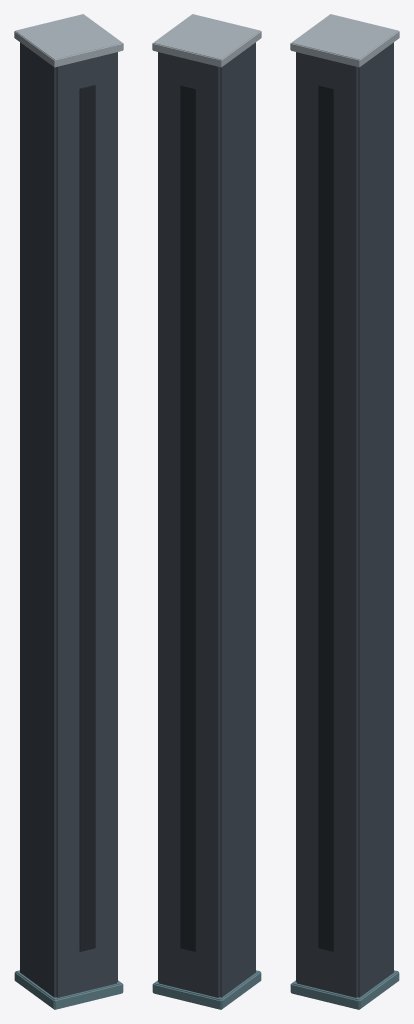
The model's file is SM_StationPost.glb.
3 renders of one model, left to right at view 1: azimuth 30°, elevation 25°; view 2: azimuth 150°, elevation 25°; view 3: azimuth 330°, elevation 25°, orthographic.
Parts seen in each view (by area): view 1: VC_ENVKIT_Post_BoxSection, VC_ENVKIT_Post_RecessChannel, VC_ENVKIT_Post_CapPlate, VC_ENVKIT_Post_BasePlate; view 2: VC_ENVKIT_Post_BoxSection, VC_ENVKIT_Post_RecessChannel.001, VC_ENVKIT_Post_CapPlate, VC_ENVKIT_Post_BasePlate; view 3: VC_ENVKIT_Post_BoxSection, VC_ENVKIT_Post_RecessChannel, VC_ENVKIT_Post_CapPlate, VC_ENVKIT_Post_BasePlate.
Boxes of the visible parts, x1=… form: VC_ENVKIT_Post_BoxSection: x1=20, y1=42, x2=117, y2=997; VC_ENVKIT_Post_RecessChannel: x1=79, y1=85, x2=95, y2=951; VC_ENVKIT_Post_CapPlate: x1=14, y1=14, x2=123, y2=67; VC_ENVKIT_Post_BasePlate: x1=14, y1=970, x2=123, y2=1009; VC_ENVKIT_Post_BoxSection: x1=158, y1=42, x2=255, y2=997; VC_ENVKIT_Post_RecessChannel.001: x1=180, y1=85, x2=196, y2=951; VC_ENVKIT_Post_CapPlate: x1=152, y1=14, x2=261, y2=67; VC_ENVKIT_Post_BasePlate: x1=152, y1=970, x2=261, y2=1009; VC_ENVKIT_Post_BoxSection: x1=296, y1=42, x2=393, y2=997; VC_ENVKIT_Post_RecessChannel: x1=318, y1=85, x2=334, y2=951; VC_ENVKIT_Post_CapPlate: x1=290, y1=14, x2=399, y2=67; VC_ENVKIT_Post_BasePlate: x1=290, y1=970, x2=399, y2=1009.
Bounding box in the file's own units: 0.4 × 5.22 × 0.4.
